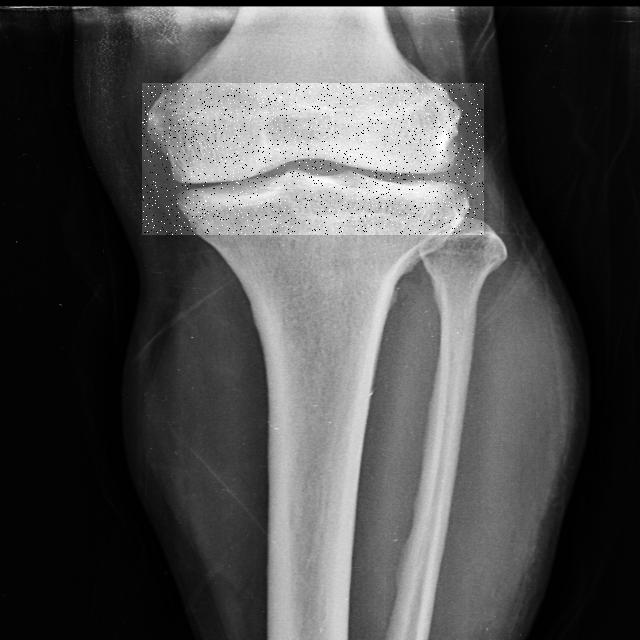normal: (142, 83, 484, 235)
